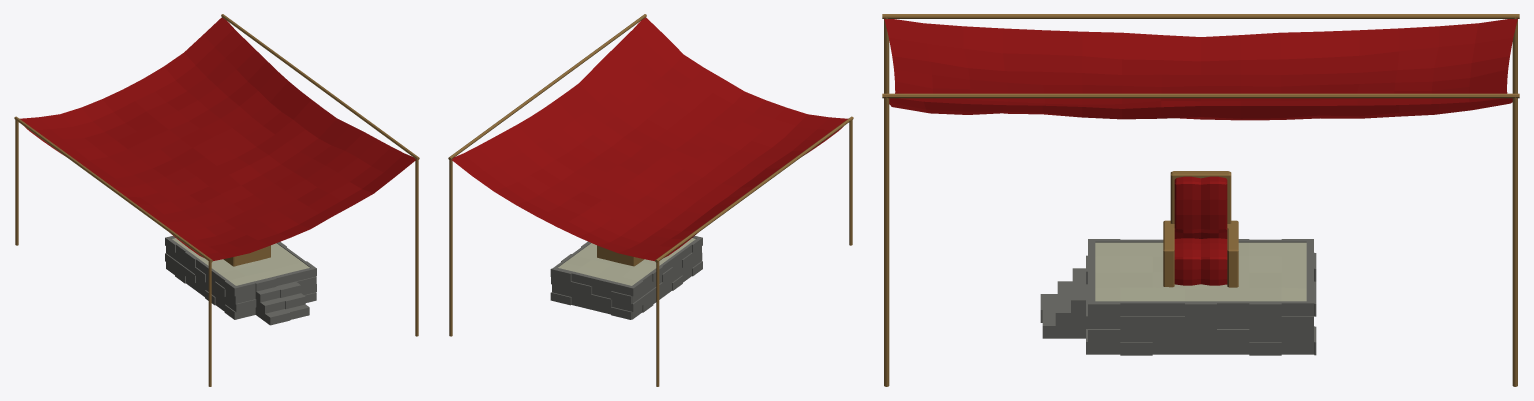
The model's file is Troon 1.fbx.
The picture shows the model from 3 angles, left to right: view 1: azimuth 30°, elevation 25°; view 2: azimuth 150°, elevation 25°; view 3: azimuth 270°, elevation 25°; orthographic projection. The views are drawn at different scales.
Visible parts, largest first — view 1: Plane, Cube, Cube.001; view 2: Plane, Cube, Cube.001; view 3: Plane, Cube, Cube.001.
Part boxes in pixels (left/top/right/bottom): Plane: left=14, top=14, right=419, bottom=386; Cube: left=165, top=236, right=316, bottom=325; Cube.001: left=223, top=245, right=270, bottom=266; Plane: left=448, top=14, right=853, bottom=386; Cube: left=550, top=236, right=702, bottom=319; Cube.001: left=597, top=245, right=644, bottom=266; Plane: left=882, top=14, right=1519, bottom=386; Cube: left=1040, top=239, right=1316, bottom=355; Cube.001: left=1163, top=171, right=1238, bottom=287.
Size of the model in its own units: 2089 by 1710 by 3380.
